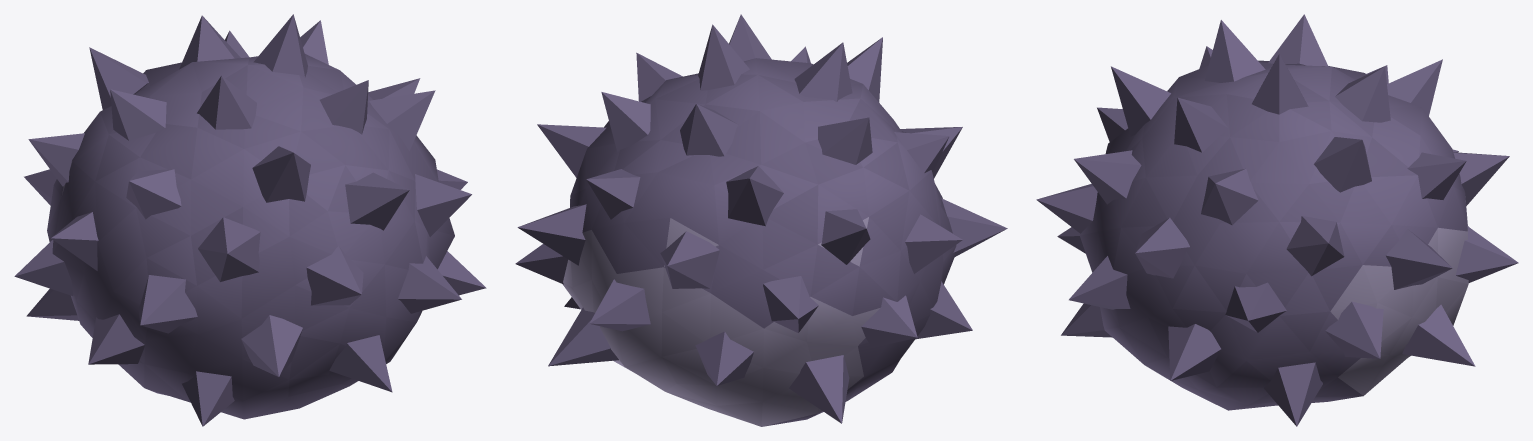
File: cristi_body.glb
3 renders of one model, left to right at view 1: azimuth 30°, elevation 25°; view 2: azimuth 150°, elevation 25°; view 3: azimuth 270°, elevation 25°, orthographic. The views are drawn at different scales.
Visible parts, largest first — view 1: cristi_body; view 2: cristi_body; view 3: cristi_body.
Part boxes in pixels (<box>): cristi_body: <box>14,14,486,426</box>; cristi_body: <box>515,14,1007,426</box>; cristi_body: <box>1036,14,1518,426</box>.
Size of the model in its own units: 0.4747 by 0.4213 by 0.4985.
